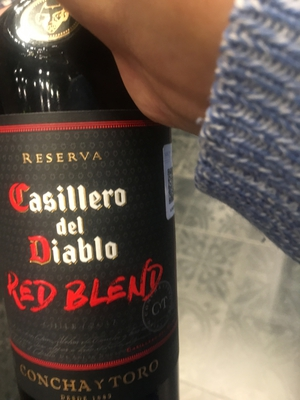casillero del diablo red blend: (2, 30, 193, 400)
